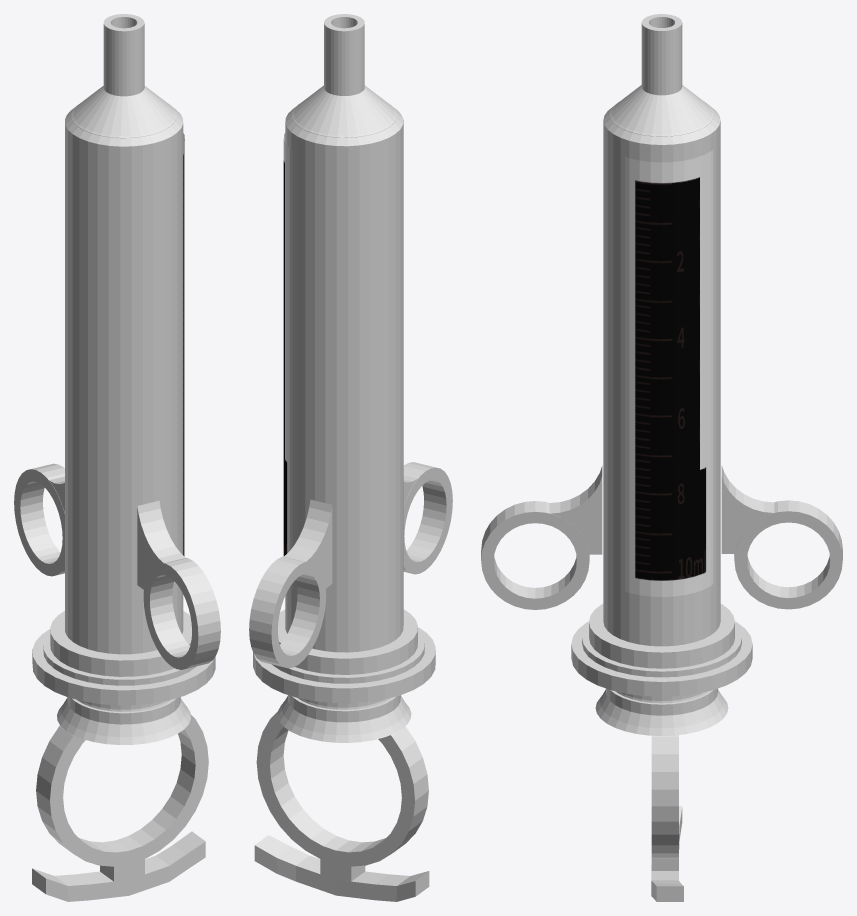
The model's file is 매니폴드주사기.fbx.
3 renders of one model, left to right at view 1: azimuth 30°, elevation 25°; view 2: azimuth 150°, elevation 25°; view 3: azimuth 270°, elevation 25°, orthographic.
Visible parts, largest first — view 1: 몸통, 안쪽막대, 왼쪽], 오른쪽, 실린더.001; view 2: 몸통, 안쪽막대, 오른쪽, 실린더.001, 왼쪽]; view 3: 몸통, 실린더.001, 안쪽막대, 오른쪽, 왼쪽].
Part boxes in pixels (x1,y1,x2,y2): 몸통: (32,14,215,705); 안쪽막대: (32,697,208,901); 왼쪽]: (137,500,220,669); 오른쪽: (14,463,64,576); 실린더.001: (183,133,184,556); 몸통: (253,14,435,703); 안쪽막대: (254,695,429,901); 오른쪽: (249,499,332,668); 실린더.001: (283,133,292,589); 왼쪽]: (403,462,452,574); 몸통: (571,14,752,696); 실린더.001: (625,150,713,596); 안쪽막대: (595,688,728,901); 오른쪽: (721,465,842,609); 왼쪽]: (481,466,602,609).
Bounding box in the file's own units: 203 × 1045 × 399.
